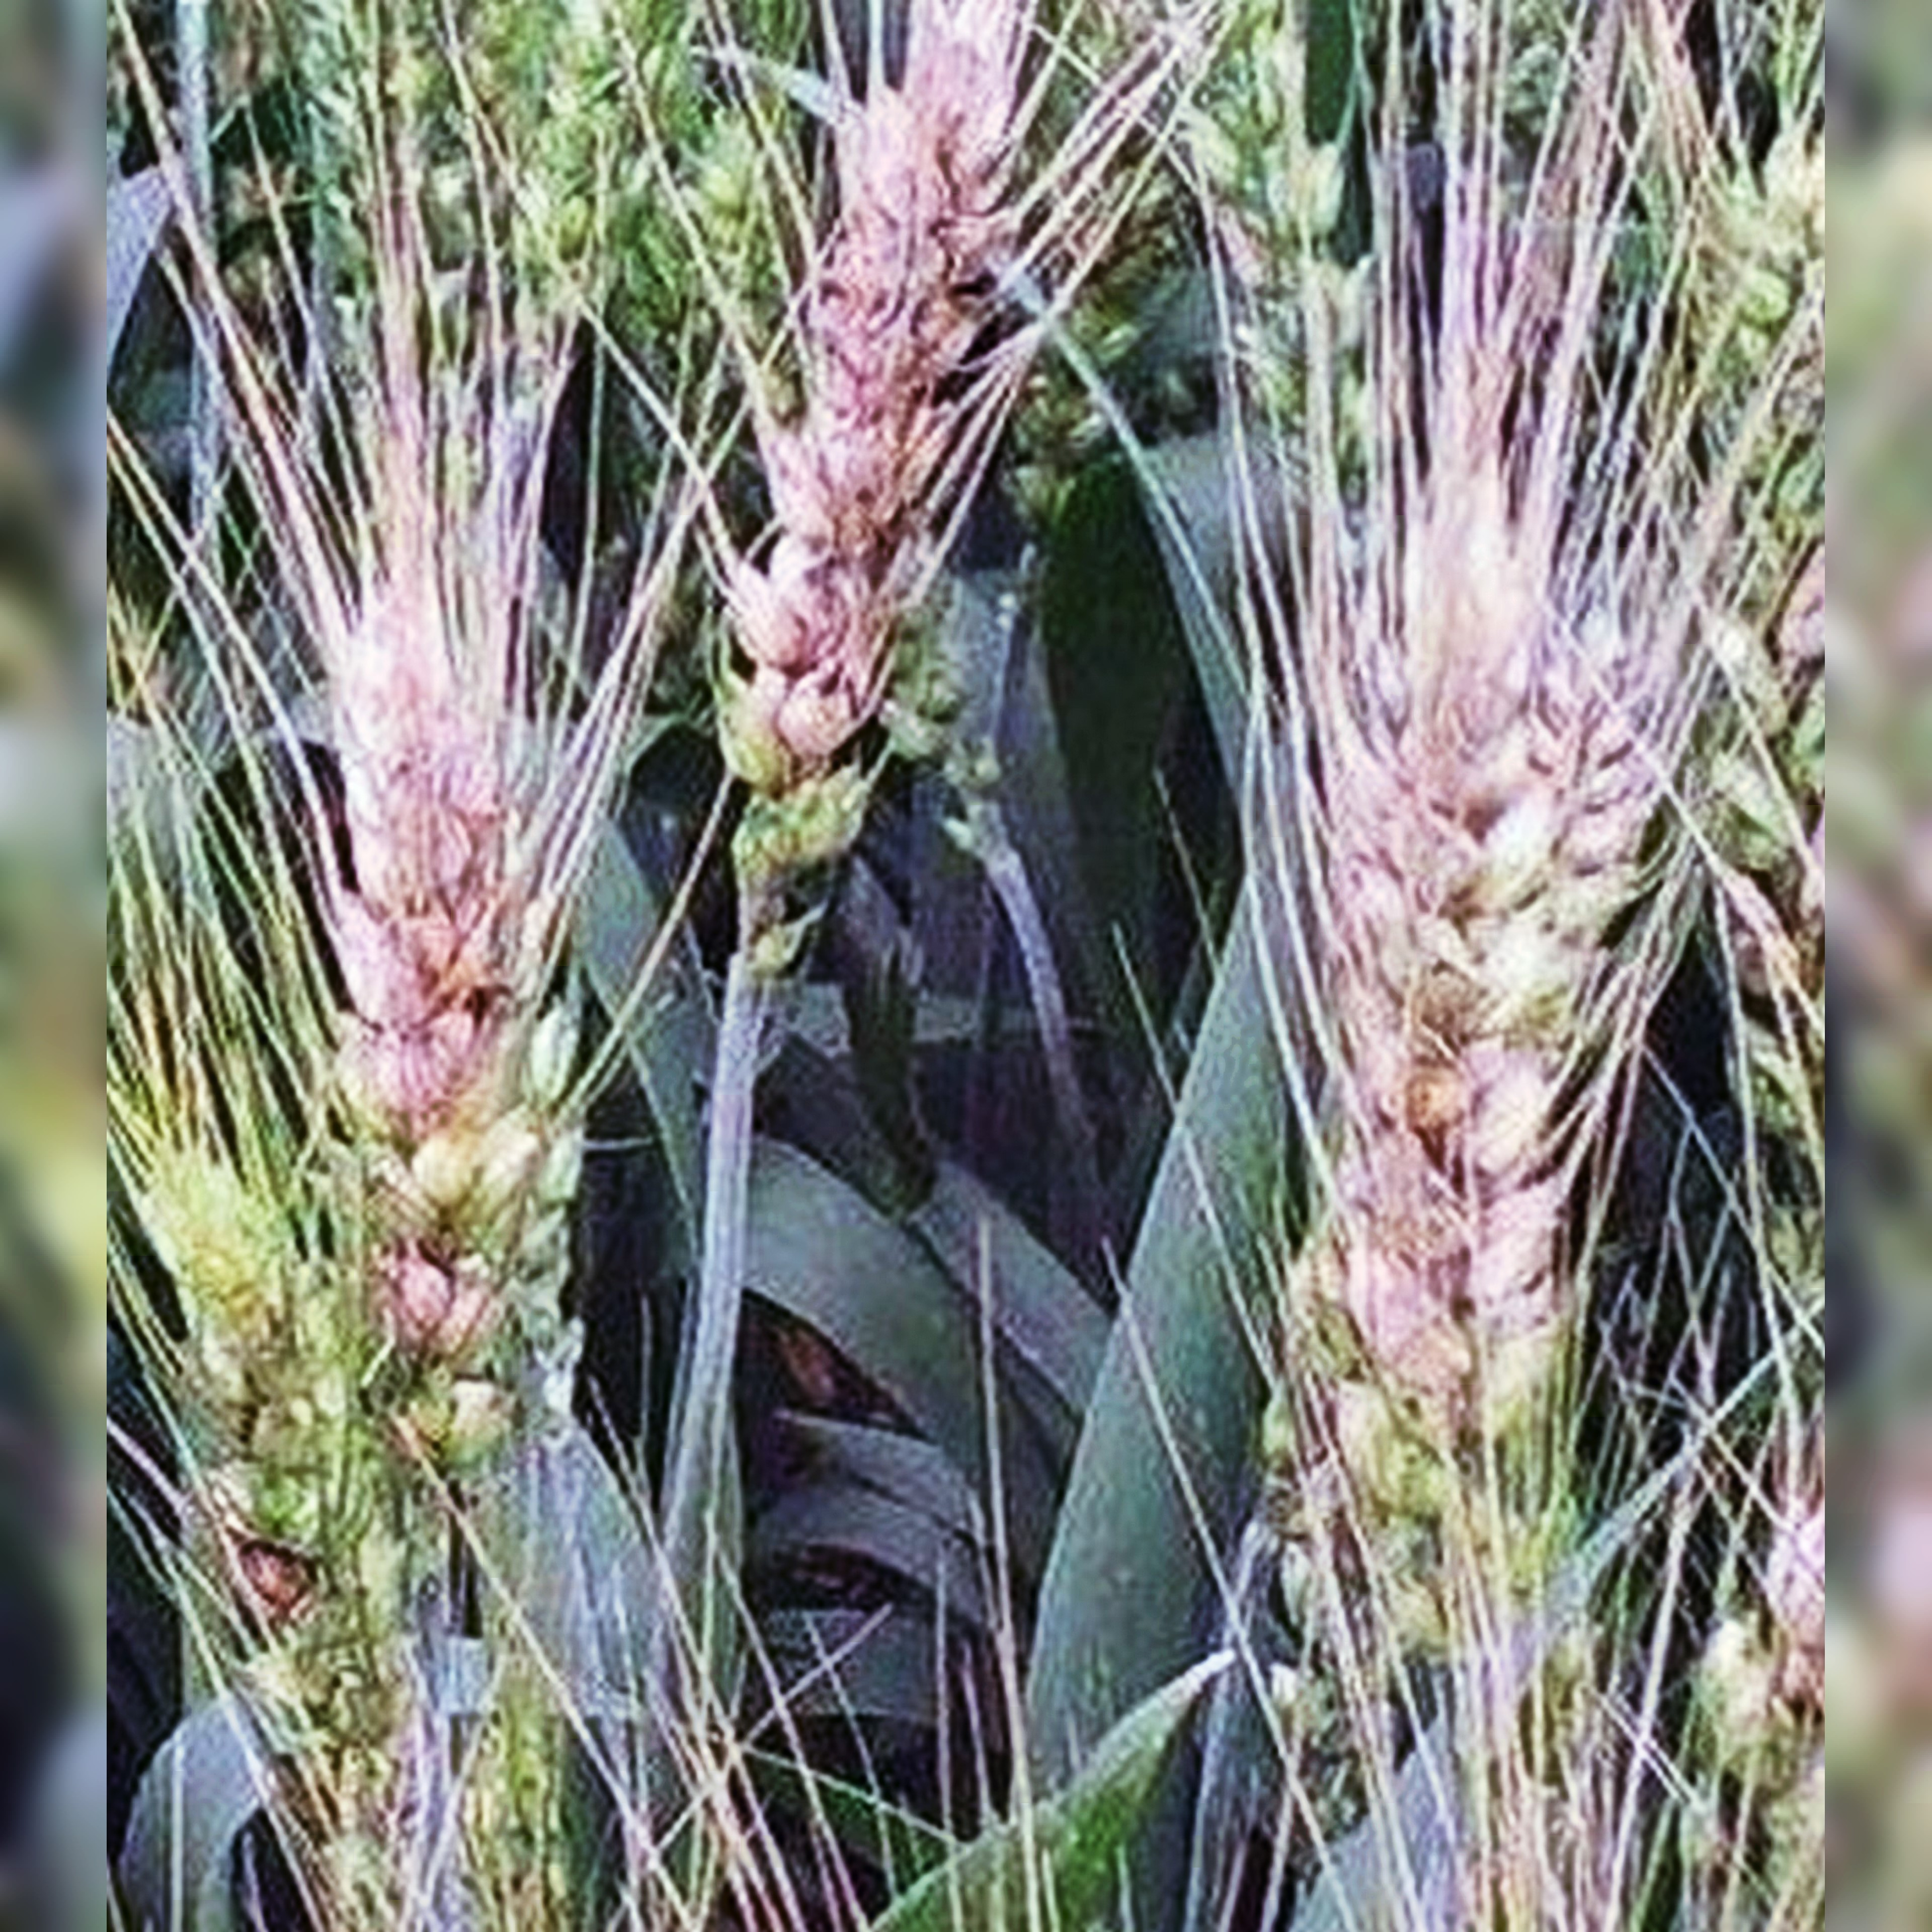Wheat scab: (711, 46, 1019, 908)
